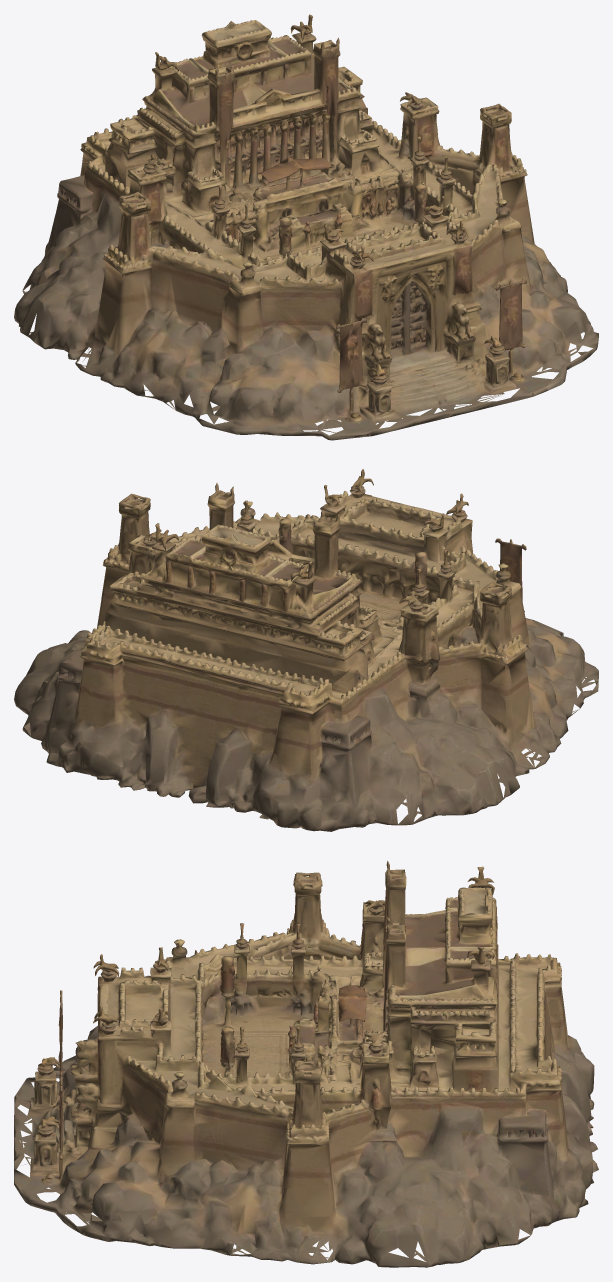
The model's file is ZabulistanKeepPolished.glb.
3 views of the same model, one above another, from view 1: azimuth 30°, elevation 25°; view 2: azimuth 150°, elevation 25°; view 3: azimuth 270°, elevation 25° (orthographic). The views are drawn at different scales.
Parts seen in each view (by area): view 1: zv_keep_recolor_tmp_Mesh; view 2: zv_keep_recolor_tmp_Mesh; view 3: zv_keep_recolor_tmp_Mesh.
Part boxes in pixels (box(x1,y1,x2,y2)): zv_keep_recolor_tmp_Mesh: box(14, 14, 598, 440); zv_keep_recolor_tmp_Mesh: box(14, 469, 598, 831); zv_keep_recolor_tmp_Mesh: box(14, 861, 598, 1267).
Bounding box in the file's own units: 1.9 × 0.9061 × 1.89.
Materials: 1 (1 with a texture image).
